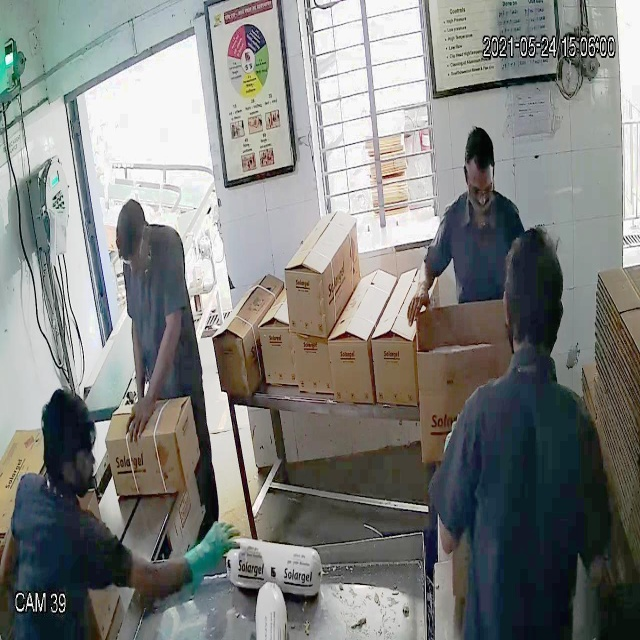Gafas: (115, 231, 147, 270)
